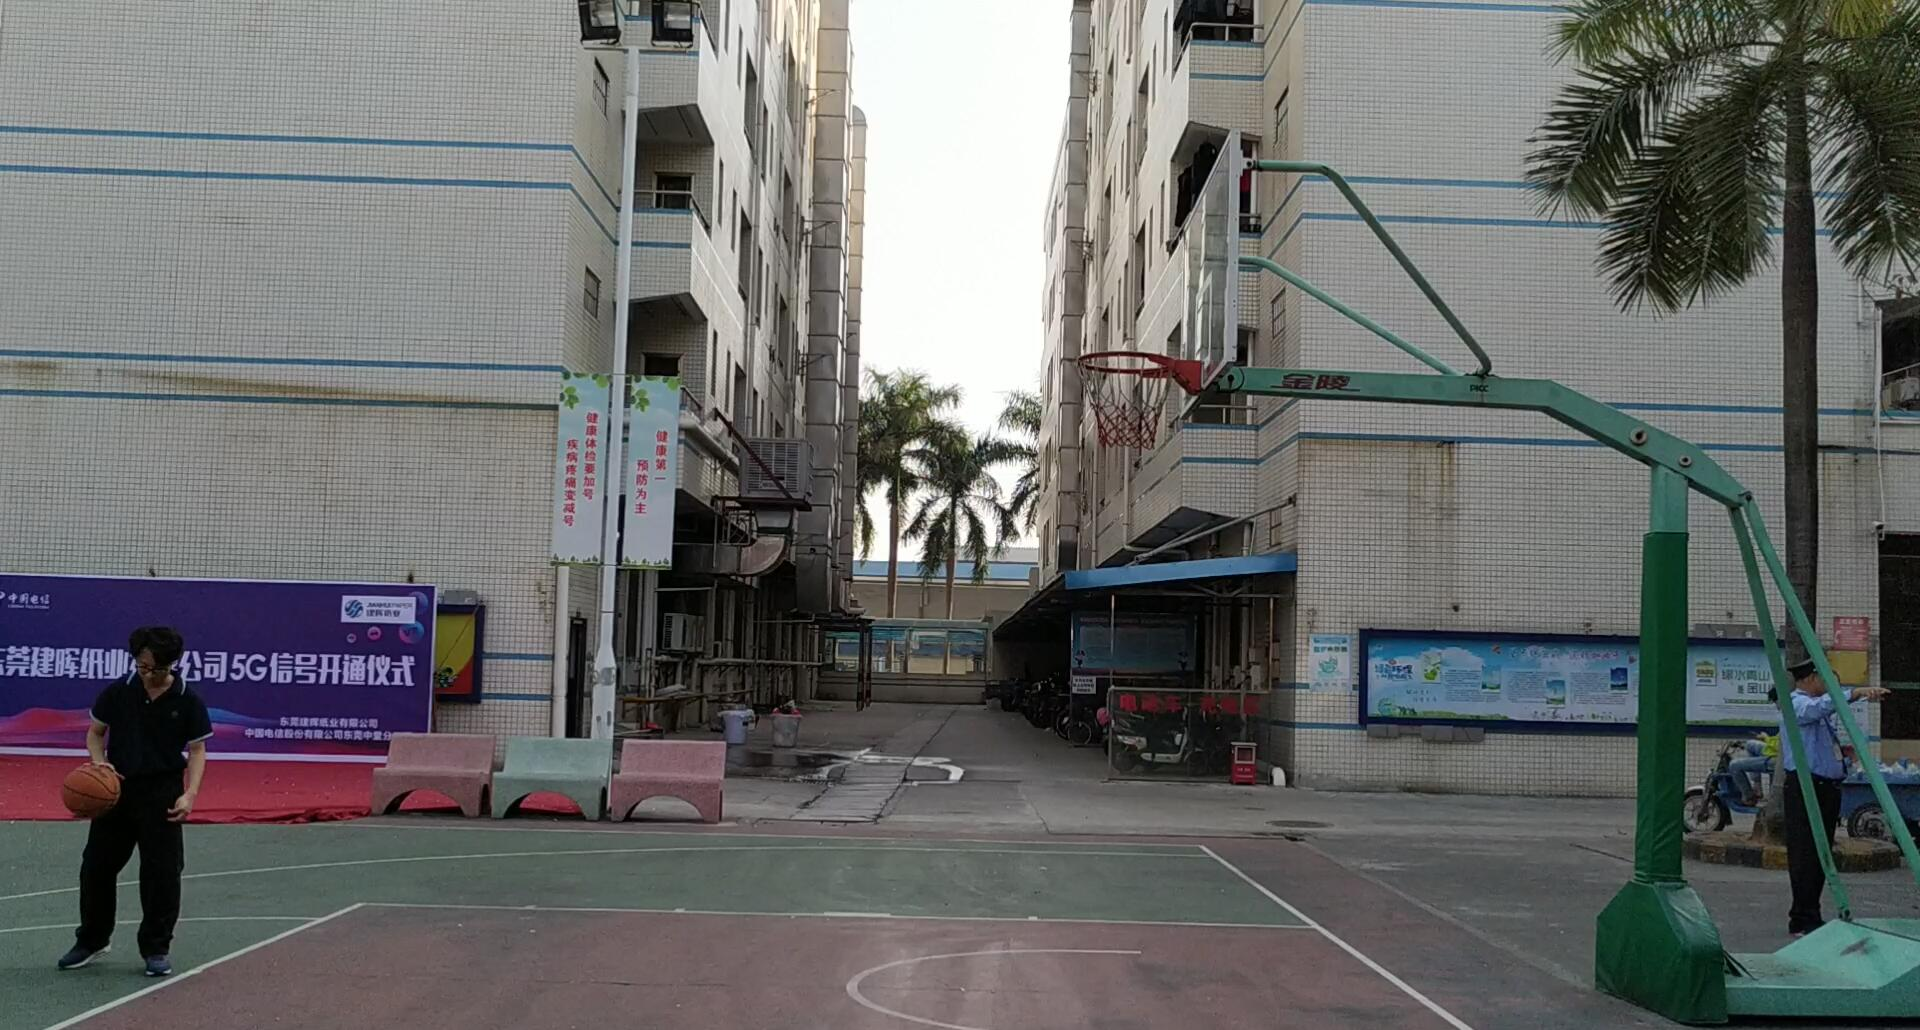basketball: (60, 757, 122, 820)
